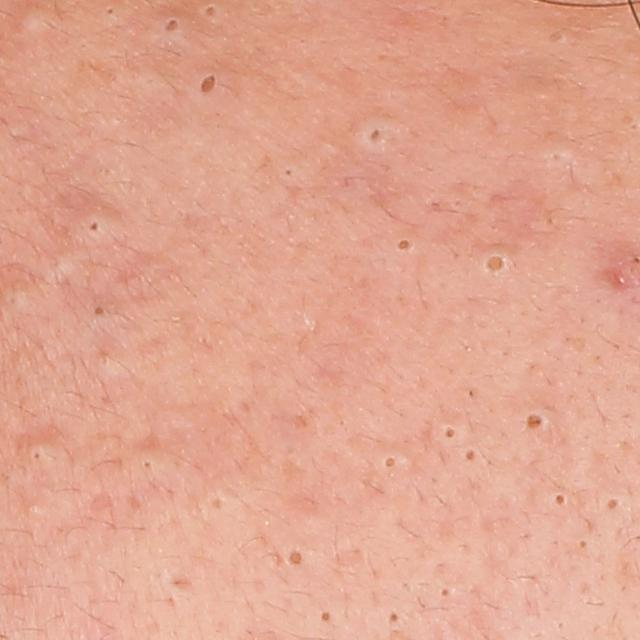comedo: (519, 402, 557, 432), (192, 68, 220, 101), (479, 248, 512, 276), (542, 141, 573, 170), (364, 123, 394, 148), (461, 443, 484, 468), (388, 234, 413, 256), (382, 449, 405, 472), (316, 605, 338, 629), (434, 581, 455, 605), (102, 1, 123, 25), (200, 3, 225, 22), (277, 161, 298, 182), (442, 422, 461, 445), (388, 608, 407, 631), (163, 15, 184, 35), (549, 488, 568, 510), (566, 535, 593, 550), (137, 455, 157, 475), (604, 495, 624, 514), (208, 492, 225, 513), (91, 303, 110, 316)
